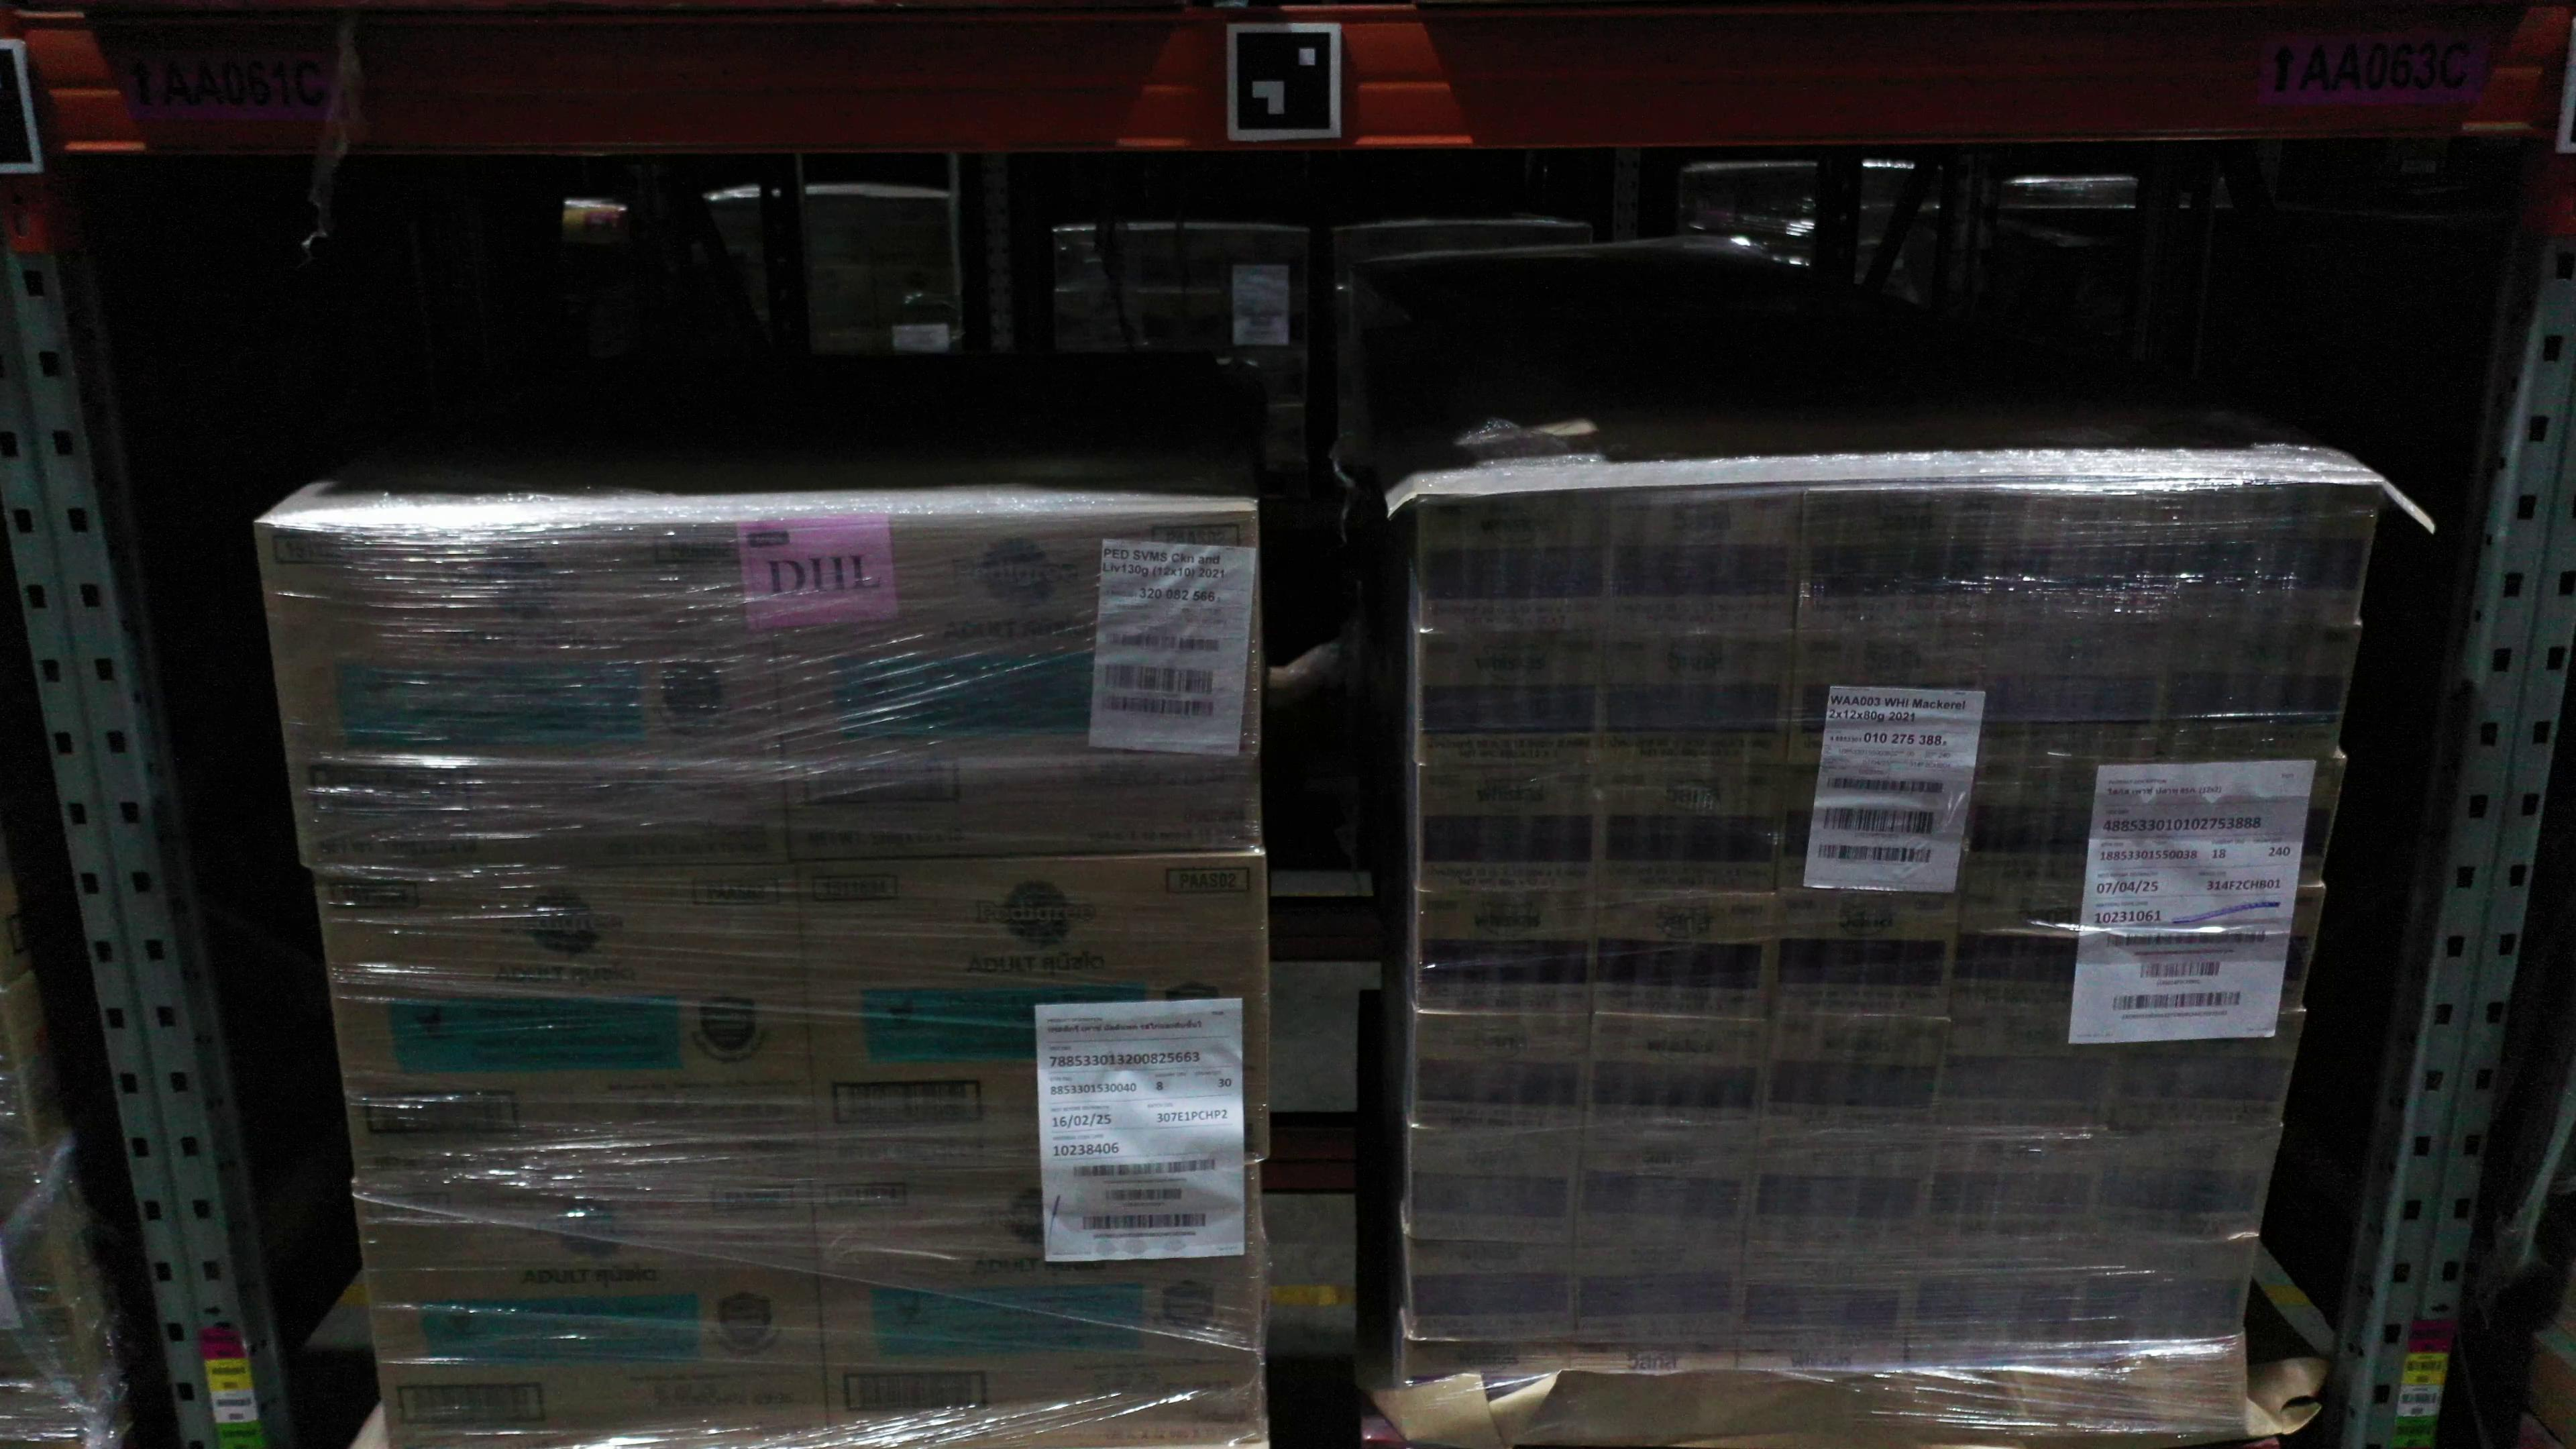-: (253, 518, 791, 872), (770, 510, 1261, 867), (315, 867, 819, 1185), (796, 853, 1270, 1177), (812, 1162, 1269, 1449), (354, 1177, 828, 1449), (1603, 481, 1799, 642), (2173, 478, 2381, 628), (1796, 481, 1997, 635), (2160, 621, 2364, 770), (1787, 628, 1985, 777), (1415, 488, 1610, 639), (1973, 625, 2171, 768), (1985, 488, 2180, 633), (2146, 757, 2346, 895), (2100, 1010, 2305, 1141), (1417, 630, 1605, 770), (1603, 635, 1798, 770), (1776, 763, 1966, 897), (1964, 768, 2158, 897), (1769, 892, 1966, 1019), (1591, 890, 1778, 1023), (1407, 1010, 1594, 1143), (1596, 763, 1780, 897), (1583, 1010, 1769, 1143), (1950, 897, 2150, 1019), (2134, 888, 2325, 1014), (1932, 1016, 2120, 1143), (1757, 1023, 1950, 1145), (2091, 1129, 2281, 1253), (1417, 768, 1599, 895), (1415, 892, 1596, 1017), (1923, 1138, 2111, 1253), (1746, 1141, 1937, 1253), (1407, 1129, 1585, 1247), (1575, 1136, 1755, 1251), (1737, 1240, 1916, 1350), (2075, 1246, 2256, 1353), (1905, 1251, 2086, 1357), (1408, 1237, 1578, 1345), (1576, 1244, 1746, 1345), (1398, 1338, 1576, 1399), (1737, 1345, 1909, 1382), (1576, 1345, 1743, 1378)
